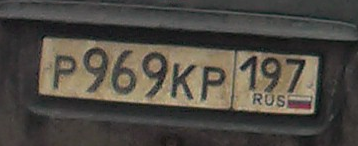character: (81, 41, 110, 98), (110, 43, 138, 100), (139, 52, 168, 102), (199, 61, 228, 107), (170, 58, 197, 102), (50, 52, 78, 94), (284, 55, 307, 95), (261, 54, 283, 94), (239, 54, 259, 91)
